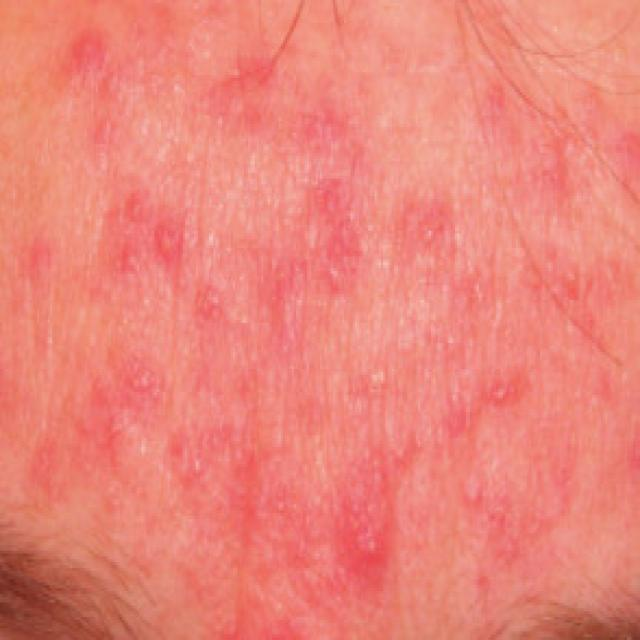Rosacea: (13, 16, 638, 596)
